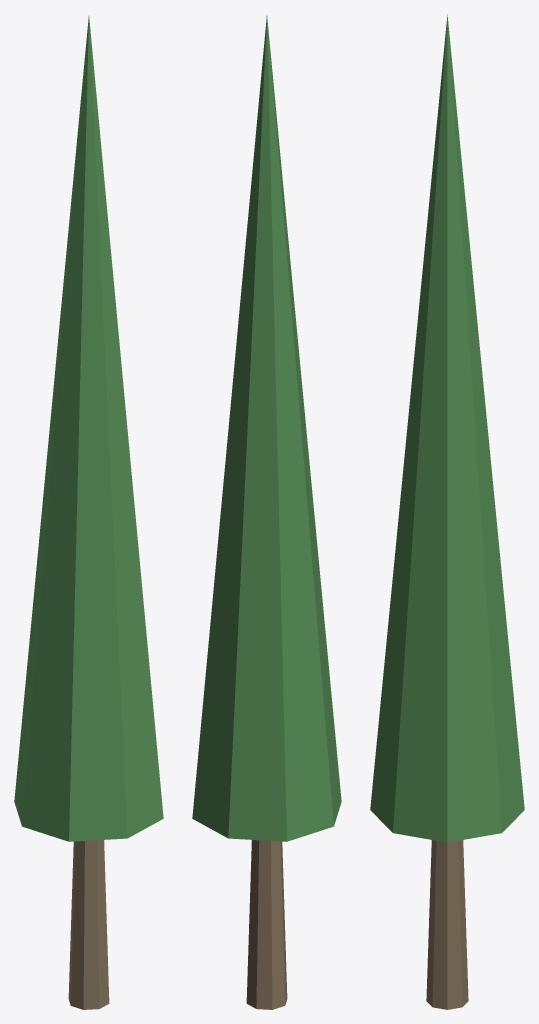
Rendered from cypress.glb.
The picture shows the model from 3 angles, left to right: view 1: azimuth 30°, elevation 25°; view 2: azimuth 150°, elevation 25°; view 3: azimuth 270°, elevation 25°; orthographic projection.
Parts seen in each view (by area): view 1: Cypress; view 2: Cypress; view 3: Cypress.
Part boxes in pixels (<box>): Cypress: <box>14,16,163,1009</box>; Cypress: <box>192,16,341,1009</box>; Cypress: <box>370,14,524,1009</box>.
Bounding box in the file's own units: 0.44 × 3.1 × 0.44.
